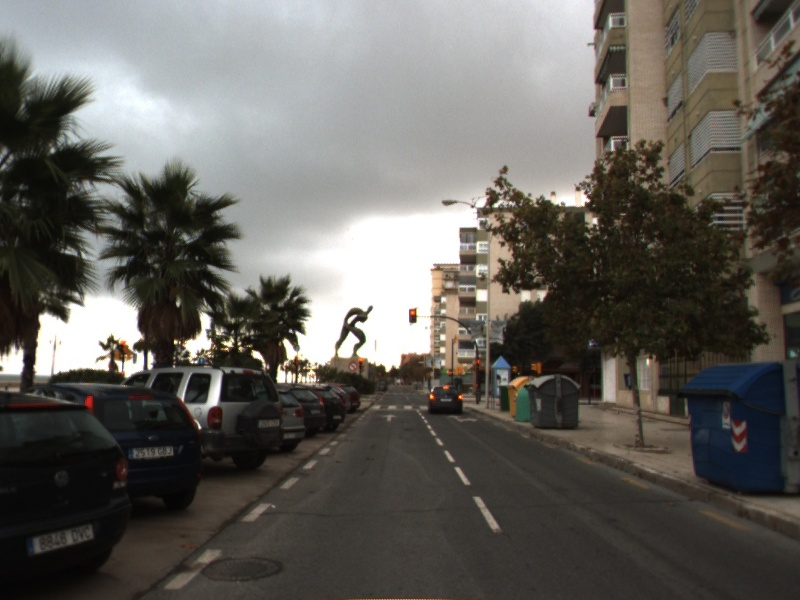STRAIGHT: (380, 412, 399, 423)
STRAIGHT_RIGHT: (445, 412, 482, 424)
